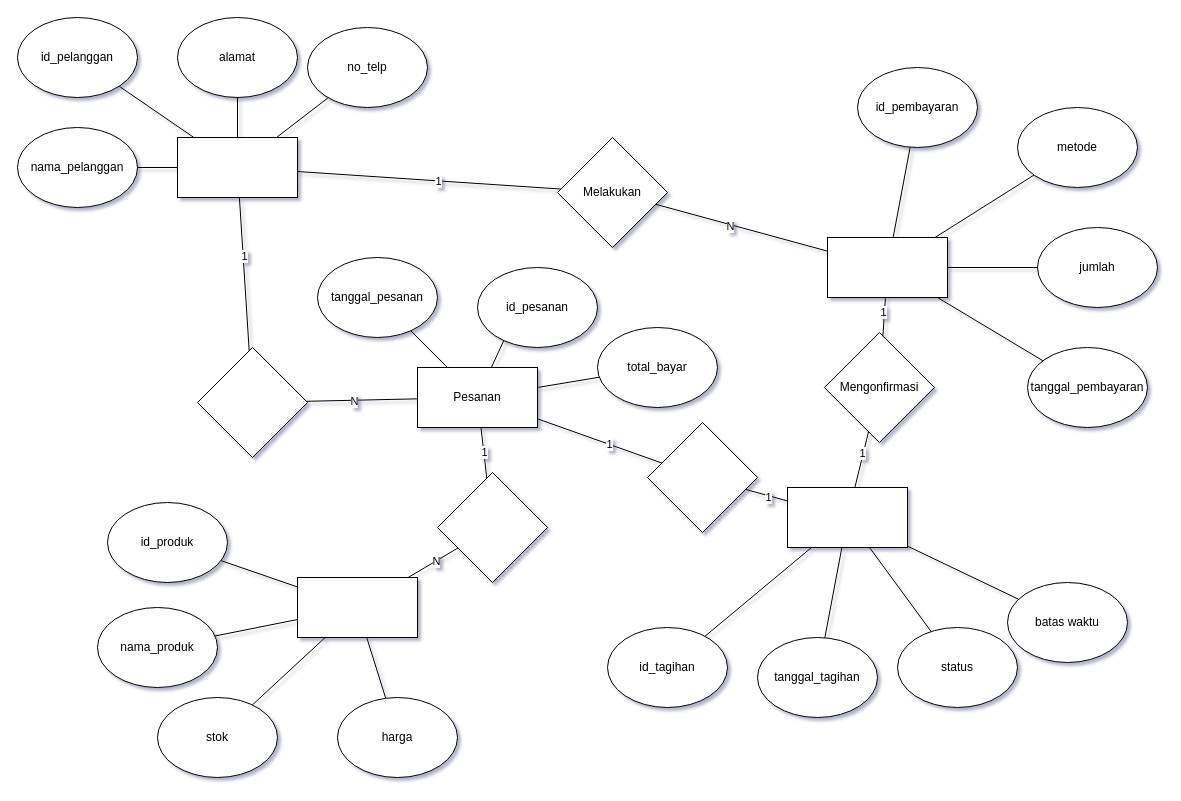
Some shapes in this 1181 by 801 pixel diagram are drawn without their labels. The shapes that lost their labels are listed below. From the top down, each one's centre as x and y in pixels, then its label:
At point (237, 167): "Pelanggan".
At point (887, 267): "Pembayaran".
At point (252, 402): "Memesan".
At point (702, 477): "Mengeluarkan".
At point (492, 527): "Berisi".
At point (847, 517): "Tagihan".
At point (357, 607): "Produk".
